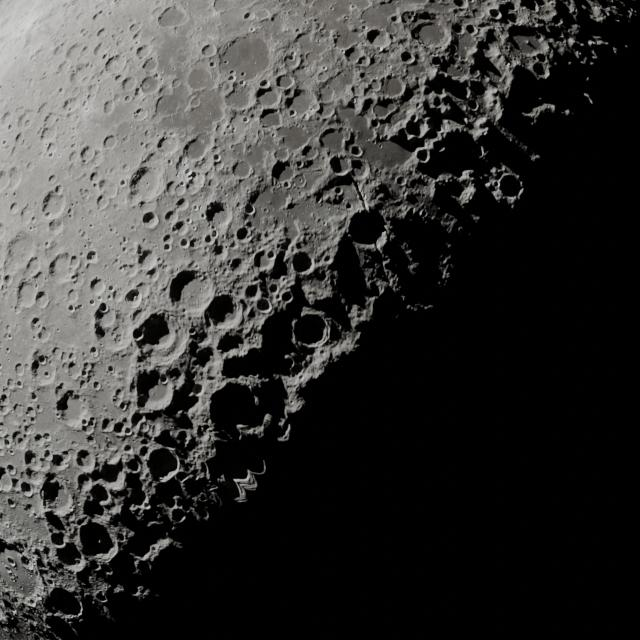crater: (133, 312, 174, 352), (77, 520, 116, 558), (202, 294, 238, 328), (146, 447, 180, 482), (49, 489, 75, 517), (252, 248, 277, 272), (32, 320, 52, 344), (156, 134, 179, 154), (232, 160, 254, 180), (103, 54, 125, 74), (45, 216, 65, 236), (89, 278, 108, 299), (138, 76, 160, 94), (276, 73, 296, 90), (111, 388, 128, 408), (141, 211, 159, 229), (78, 145, 95, 164), (120, 76, 137, 94), (255, 298, 272, 314), (141, 56, 158, 72), (132, 105, 148, 122), (66, 288, 81, 306), (174, 196, 190, 212), (85, 248, 100, 264), (414, 148, 430, 163), (200, 43, 217, 57), (102, 100, 117, 115), (102, 135, 116, 150), (280, 290, 293, 304), (8, 201, 20, 215), (14, 362, 25, 376), (96, 302, 108, 314), (30, 317, 42, 329), (258, 78, 271, 89), (178, 237, 190, 248), (25, 406, 36, 418), (208, 228, 219, 240), (6, 464, 17, 475), (12, 431, 22, 443), (7, 498, 17, 508), (38, 356, 48, 366), (212, 153, 221, 163), (92, 380, 101, 390), (288, 108, 297, 118), (106, 365, 115, 374), (241, 116, 250, 124), (15, 379, 23, 388), (89, 346, 97, 355), (4, 346, 10, 354)
